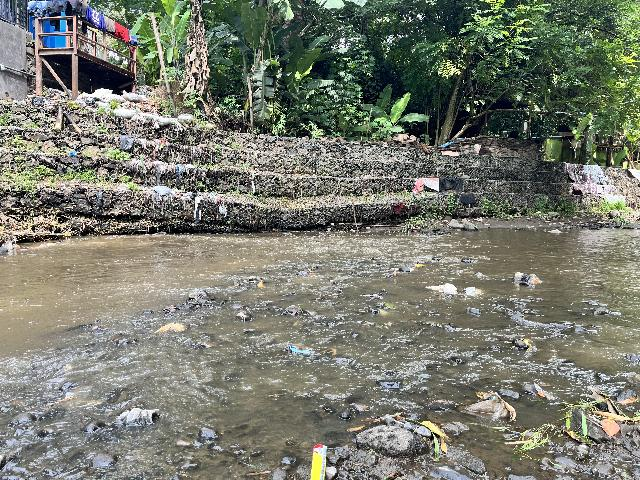Sampah Anorganik: (465, 391, 515, 423), (513, 268, 543, 291), (310, 441, 326, 480), (287, 343, 320, 359), (422, 283, 458, 297), (462, 284, 488, 299), (535, 380, 549, 400), (410, 262, 431, 270), (364, 293, 383, 301), (329, 277, 337, 284)
Sampah Organik: (569, 376, 640, 444), (416, 419, 453, 459), (506, 427, 551, 456), (514, 335, 536, 355), (157, 321, 187, 333), (48, 395, 74, 406), (341, 423, 369, 433), (321, 346, 338, 357), (248, 469, 272, 476), (162, 303, 177, 313), (392, 412, 406, 421), (381, 301, 395, 309), (292, 308, 304, 317), (375, 308, 388, 316), (363, 417, 380, 422), (305, 268, 316, 274), (257, 280, 264, 289), (393, 269, 397, 279), (233, 284, 238, 287)
